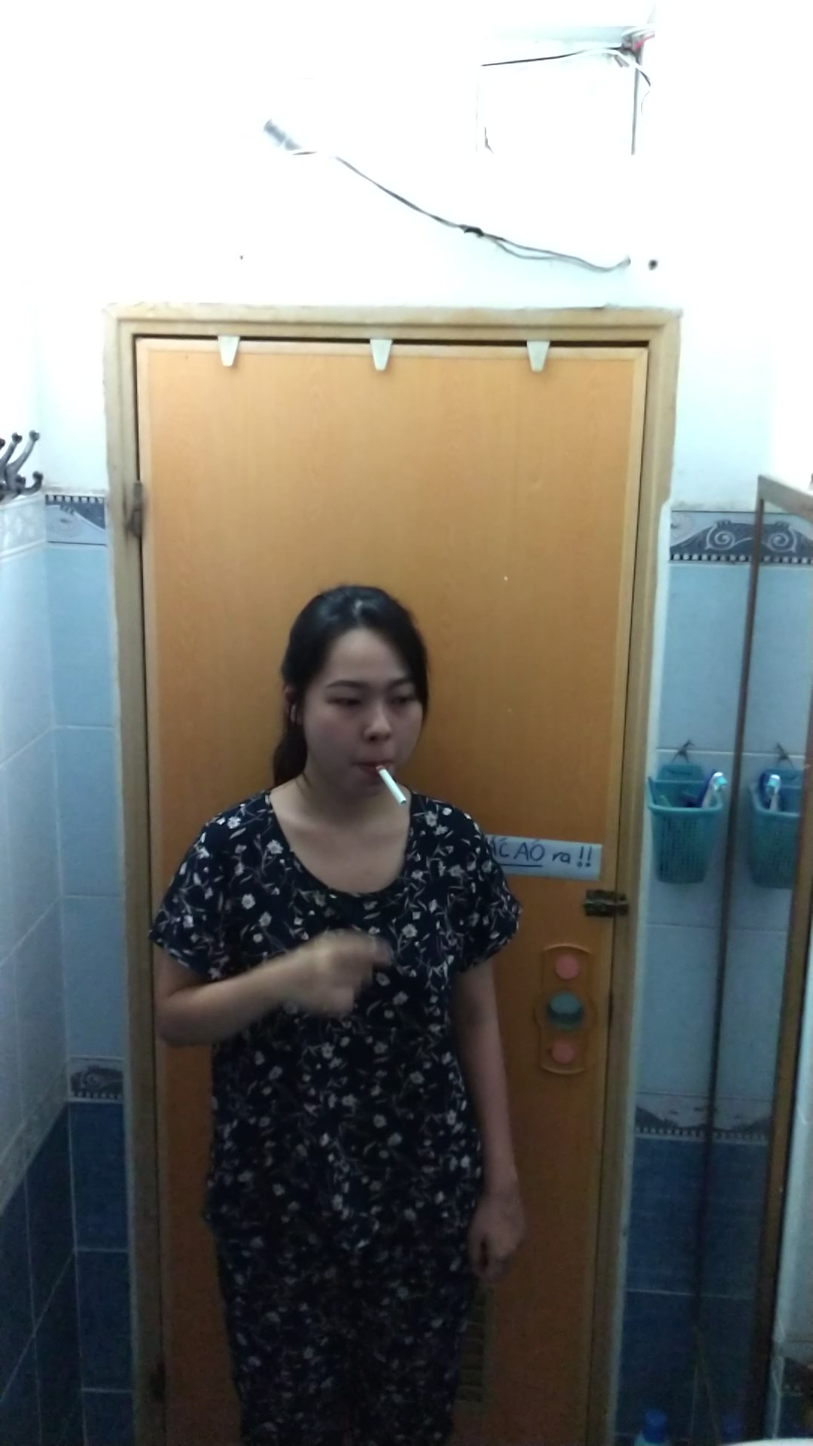cigarette: (373, 765, 410, 810)
person: (151, 580, 552, 1446)
